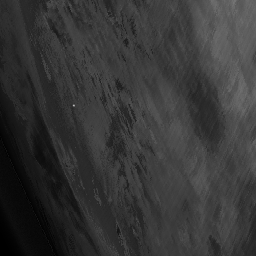Target: (70, 102, 76, 109)
